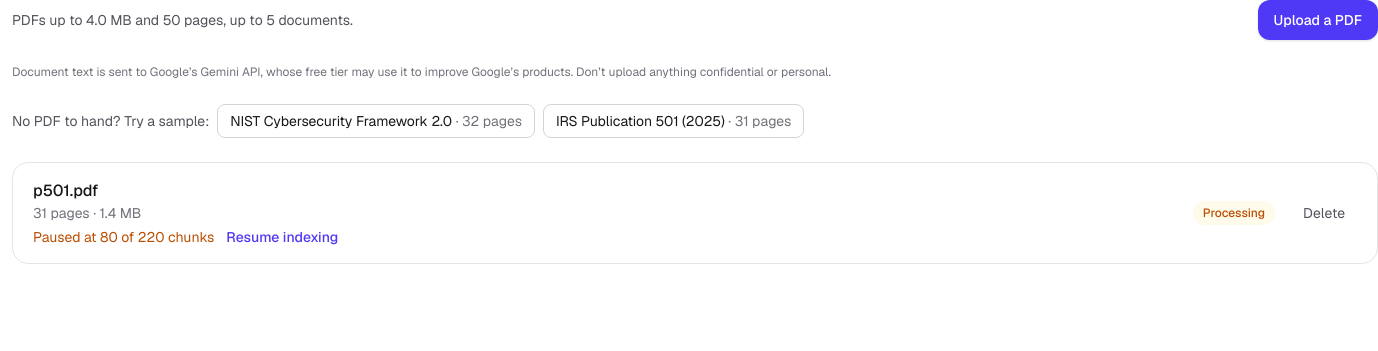
Test: DocumentLibrary — indexing large documents › explains a network failure and lets the user resume
The width and height of the screenshot is (1378, 351).
What coordinates should you click on to do the following:
click the button "Resume indexing"
I would click on:
 (282, 237)
Its box is [226,227,338,247].
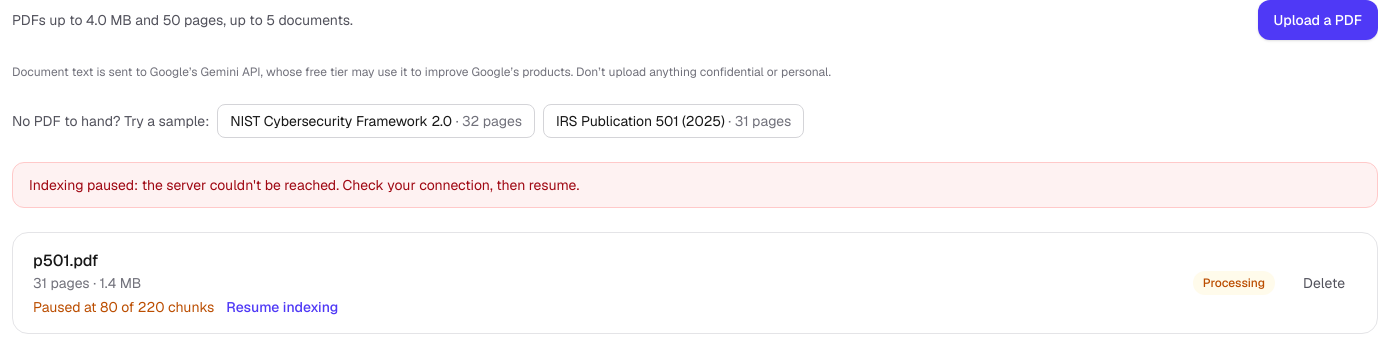
Expected: the button "Resume indexing" is shown, [226,297,338,317]
Expected: the message shows "connection", [29,176,579,194]
